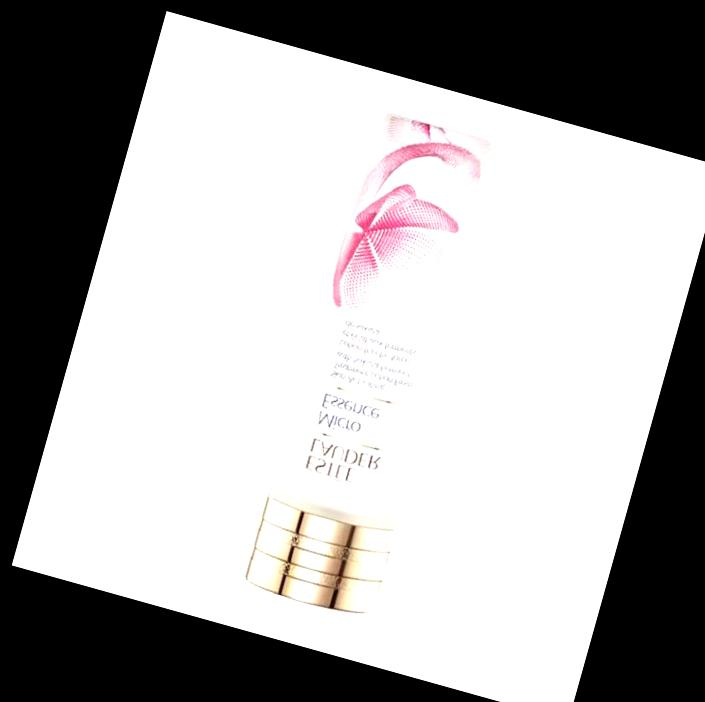cosmetic: (249, 110, 502, 616)
